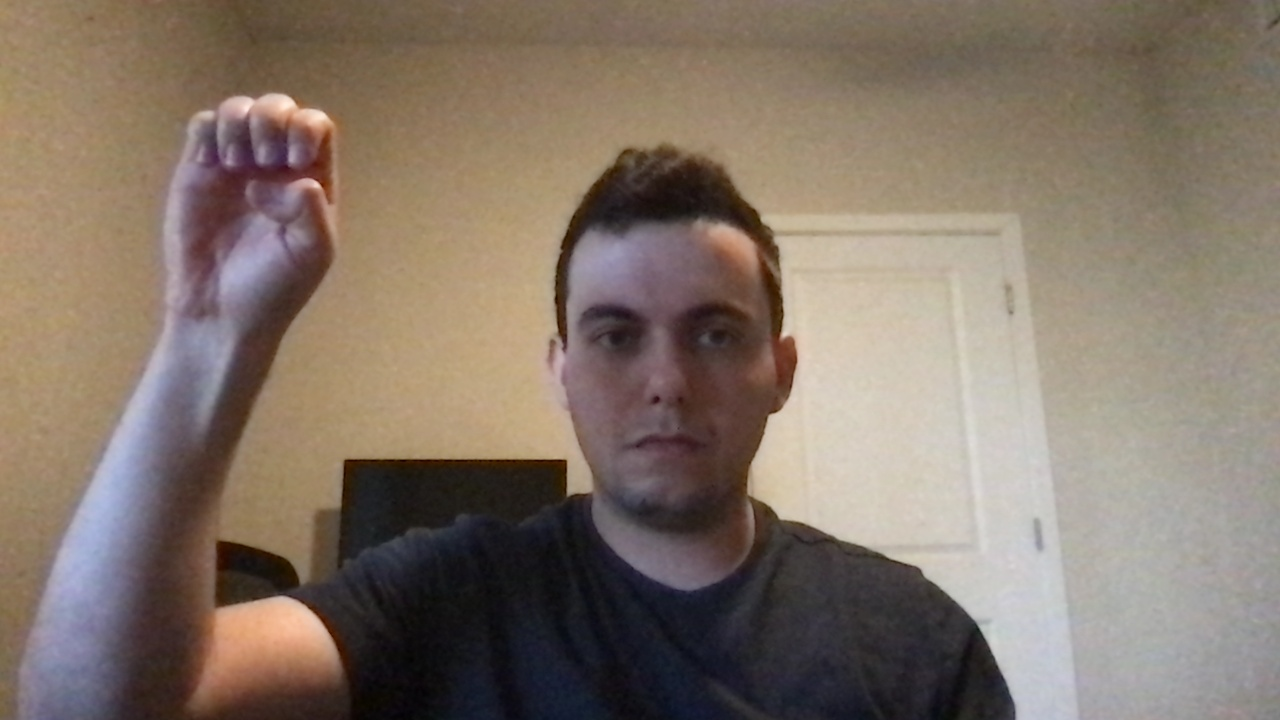e: (154, 83, 350, 332)
